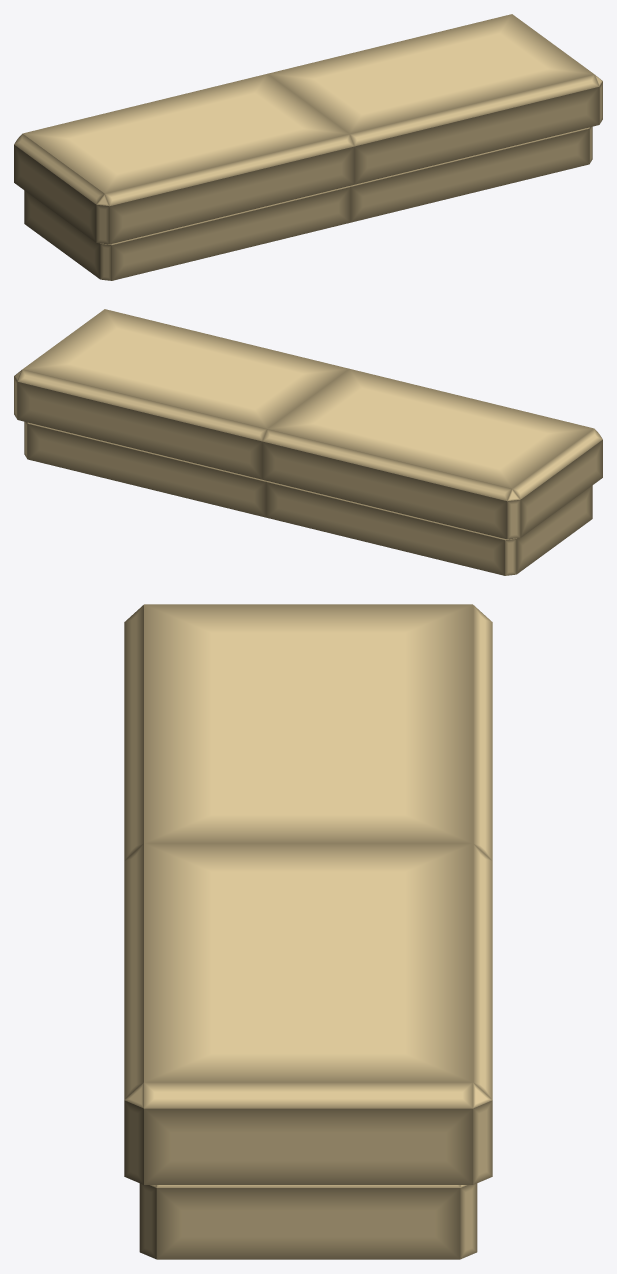
The model's file is TrainingBoard_Split.fbx.
The picture shows the model from 3 angles, top to bottom: view 1: azimuth 30°, elevation 25°; view 2: azimuth 150°, elevation 25°; view 3: azimuth 270°, elevation 25°; orthographic projection. The views are drawn at different scales.
Parts seen in each view (by area): view 1: TrainingBoard_PieceA, TrainingBoard_PieceB; view 2: TrainingBoard_PieceA, TrainingBoard_PieceB; view 3: TrainingBoard_PieceB, TrainingBoard_PieceA.
Boxes of the visible parts, box(x1,y1,x2,y2) form: TrainingBoard_PieceA: box(14, 74, 354, 280); TrainingBoard_PieceB: box(267, 14, 602, 222); TrainingBoard_PieceA: box(262, 369, 602, 575); TrainingBoard_PieceB: box(14, 309, 349, 517); TrainingBoard_PieceB: box(124, 843, 492, 1259); TrainingBoard_PieceA: box(124, 604, 492, 860).
Size of the model in its own units: 4.16 by 0.69 by 1.31.
